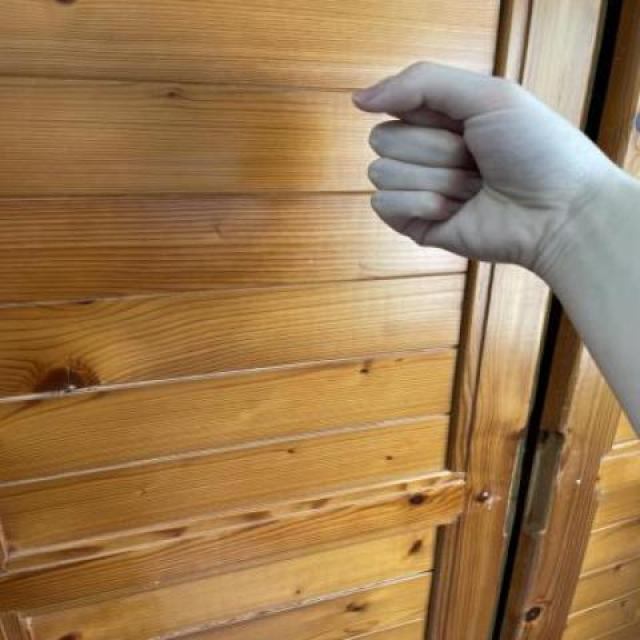Closed Hand: (346, 50, 577, 310)
